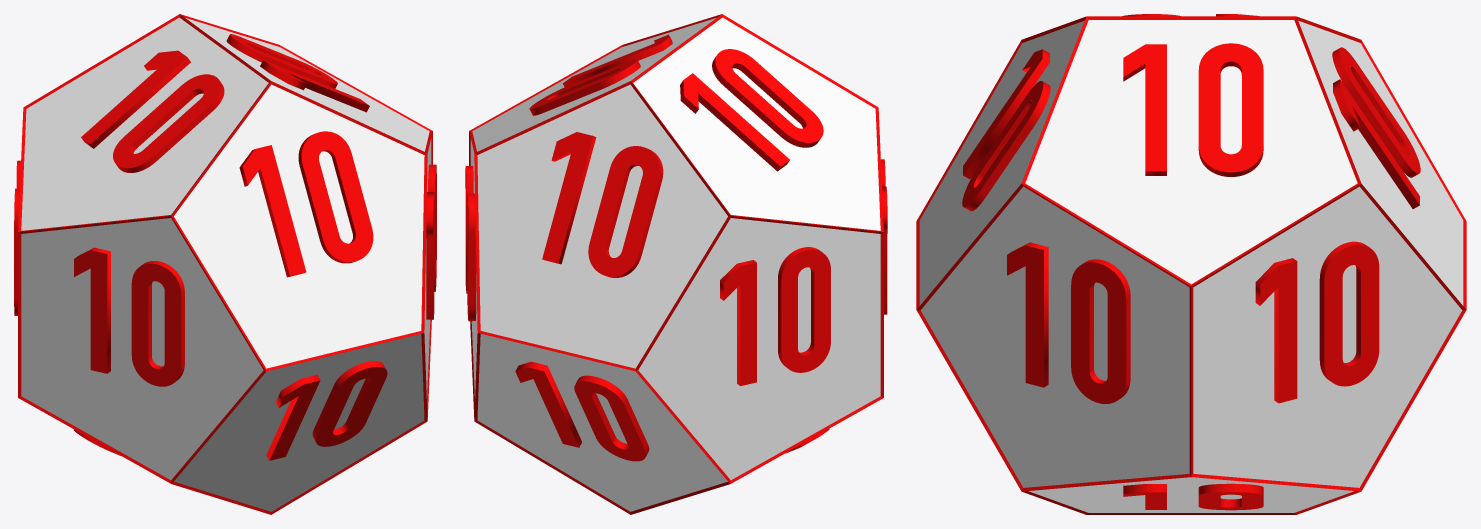
Rendered from dodecahedron_sign-10.glb.
3 views of the same model, side by side, from view 1: azimuth 30°, elevation 25°; view 2: azimuth 150°, elevation 25°; view 3: azimuth 270°, elevation 25° (orthographic). The views are drawn at different scales.
Visible parts, largest first — view 1: Dodecahedron_Solid, Dodecahedron_Wire, Text20_5, Text20_11, Text20_7, Text20_10, Text20_2, Text20_6, Text20_8; view 2: Dodecahedron_Solid, Dodecahedron_Wire, Text20_0, Text20_8, Text20_7, Text20_3, Text20_2, Text20_1, Text20_11; view 3: Dodecahedron_Solid, Dodecahedron_Wire, Text20_1, Text20_6, Text20_2, Text20_0, Text20_5, Text20_4.
Boxes of the visible parts, <box> form: Dodecahedron_Solid: <box>21,17,431,511</box>; Dodecahedron_Wire: <box>18,14,432,514</box>; Text20_5: <box>239,131,373,277</box>; Text20_11: <box>74,247,184,386</box>; Text20_7: <box>81,50,224,172</box>; Text20_10: <box>266,361,387,460</box>; Text20_2: <box>226,34,369,112</box>; Text20_6: <box>426,164,436,319</box>; Text20_8: <box>14,160,20,315</box>; Dodecahedron_Solid: <box>470,17,880,511</box>; Dodecahedron_Wire: <box>469,14,883,514</box>; Text20_0: <box>542,132,663,277</box>; Text20_8: <box>720,247,830,385</box>; Text20_7: <box>680,49,823,171</box>; Text20_3: <box>515,361,649,461</box>; Text20_2: <box>529,34,672,115</box>; Text20_1: <box>465,166,476,321</box>; Text20_11: <box>881,159,887,314</box>; Dodecahedron_Solid: <box>919,20,1463,512</box>; Dodecahedron_Wire: <box>916,16,1466,514</box>; Text20_1: <box>1255,241,1379,403</box>; Text20_6: <box>1007,242,1130,403</box>; Text20_2: <box>1123,43,1263,176</box>; Text20_0: <box>1332,47,1420,208</box>; Text20_5: <box>962,49,1050,211</box>; Text20_4: <box>1123,483,1263,510</box>.
Bounding box in the file's own units: 3.26 × 3.26 × 3.26.
